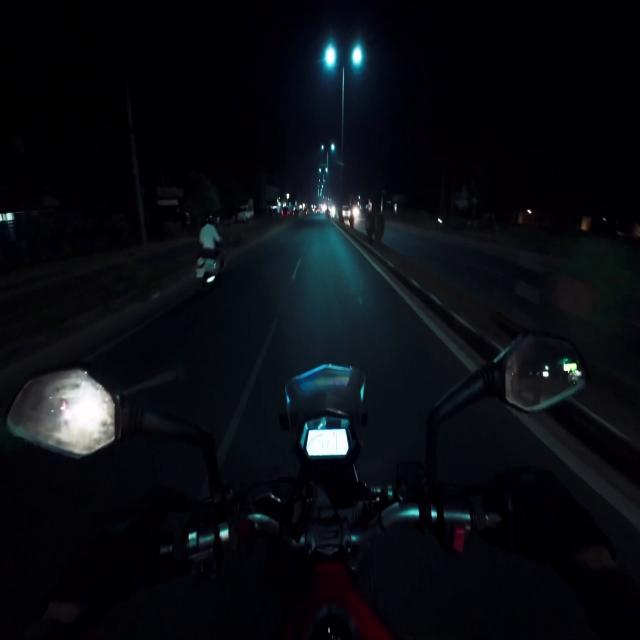motorcycle: (7, 334, 587, 639), (196, 247, 224, 289)
